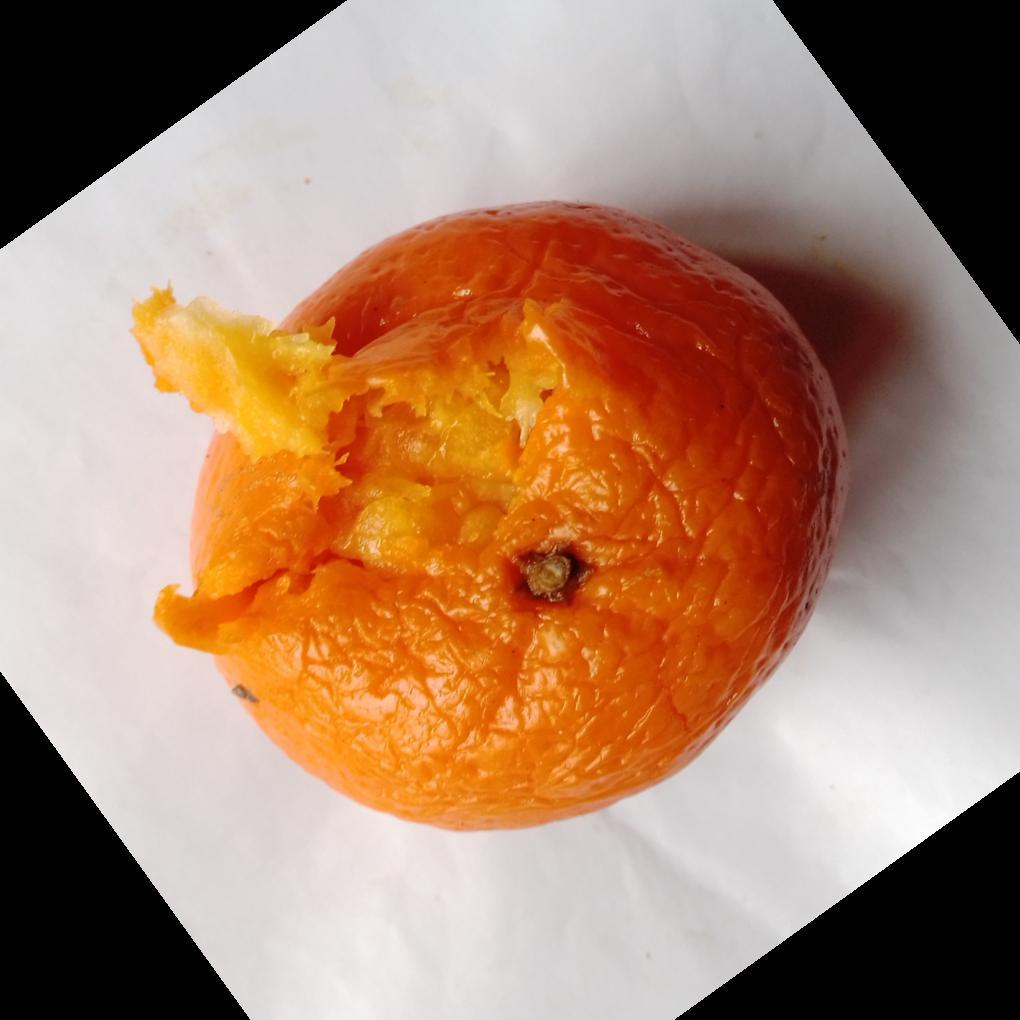FreshOrange: (129, 202, 850, 837)
